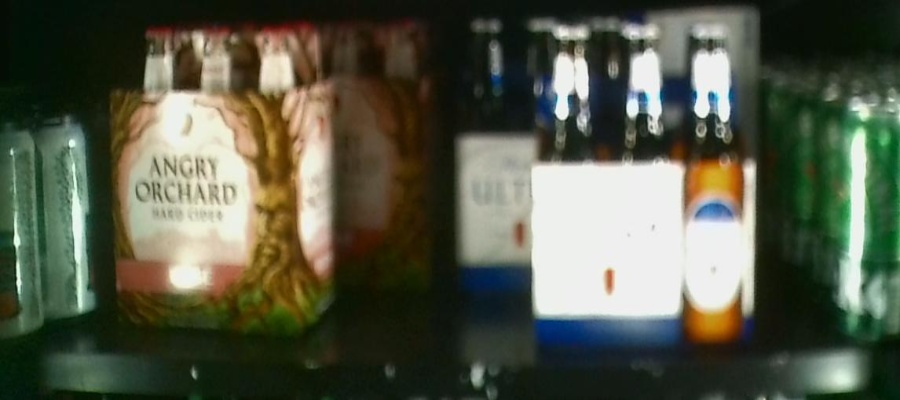bottle: (534, 14, 757, 350), (112, 16, 334, 326), (332, 16, 437, 286), (452, 5, 533, 295)
